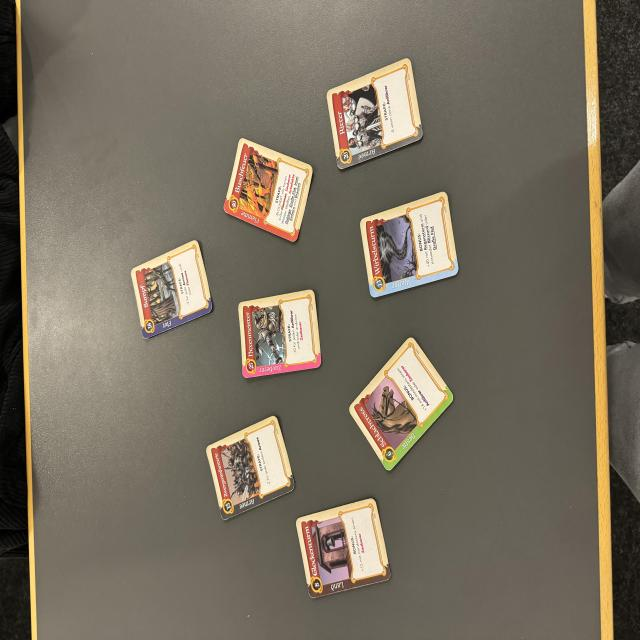Clock Tower: (295, 499, 396, 601)
Knights: (325, 56, 424, 171)
Light Cavalry: (205, 415, 296, 523)
Swamp: (129, 238, 213, 343)
War Horse: (347, 335, 456, 475)
Warlock Lord: (238, 290, 323, 381)
Whirlwind: (359, 190, 462, 301)
Wildfire: (222, 138, 313, 243)
